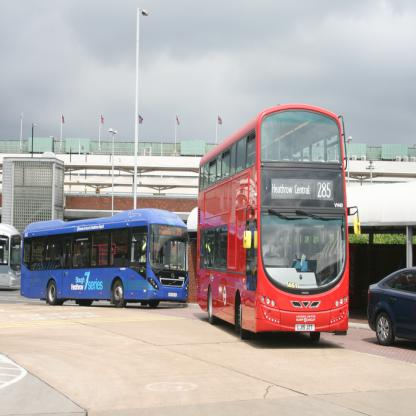Bus: (195, 102, 360, 342), (20, 208, 190, 308), (0, 221, 22, 292)
